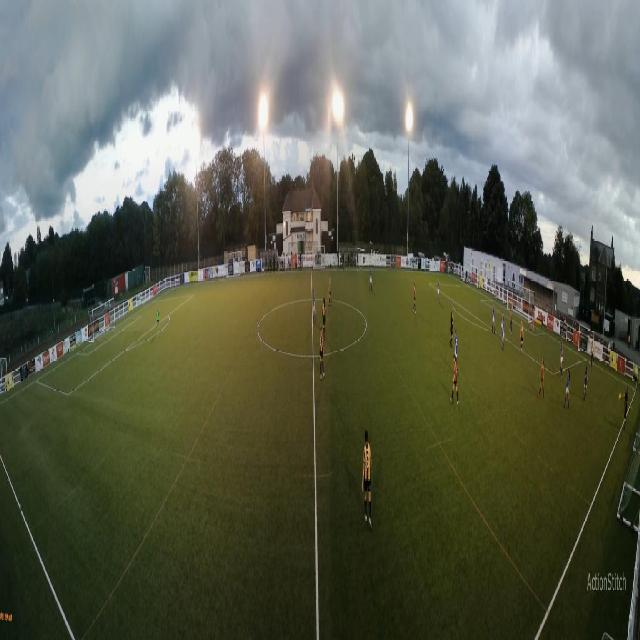ball: (589, 361, 591, 367)
player: (362, 425, 374, 527), (319, 322, 325, 384), (451, 351, 458, 403), (537, 354, 544, 400), (563, 367, 570, 411), (322, 299, 327, 341), (312, 285, 317, 325), (450, 311, 455, 349), (583, 363, 588, 401), (455, 330, 459, 370), (413, 281, 417, 318), (520, 319, 524, 353), (369, 263, 373, 295), (156, 305, 160, 335), (560, 339, 563, 379), (437, 276, 441, 305), (531, 308, 535, 332), (492, 303, 495, 335), (509, 307, 512, 335), (329, 277, 332, 304), (503, 317, 505, 347), (591, 338, 593, 363), (502, 310, 503, 337)
